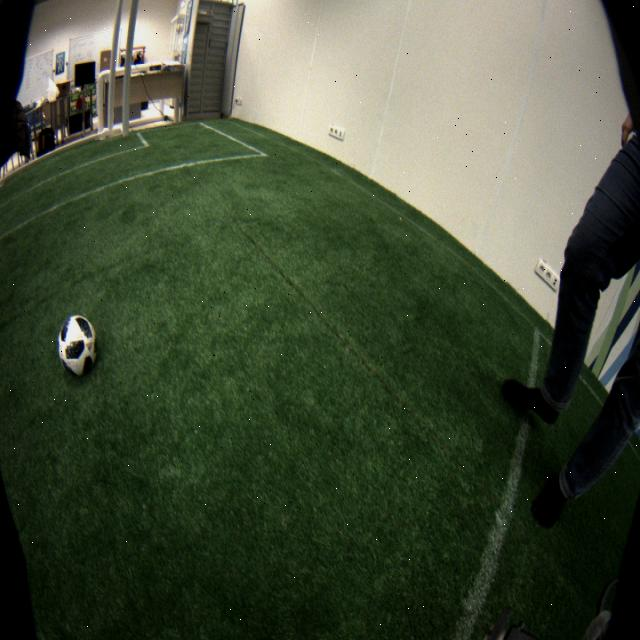ball: (57, 315, 99, 376)
goalpost: (121, 2, 139, 135)
